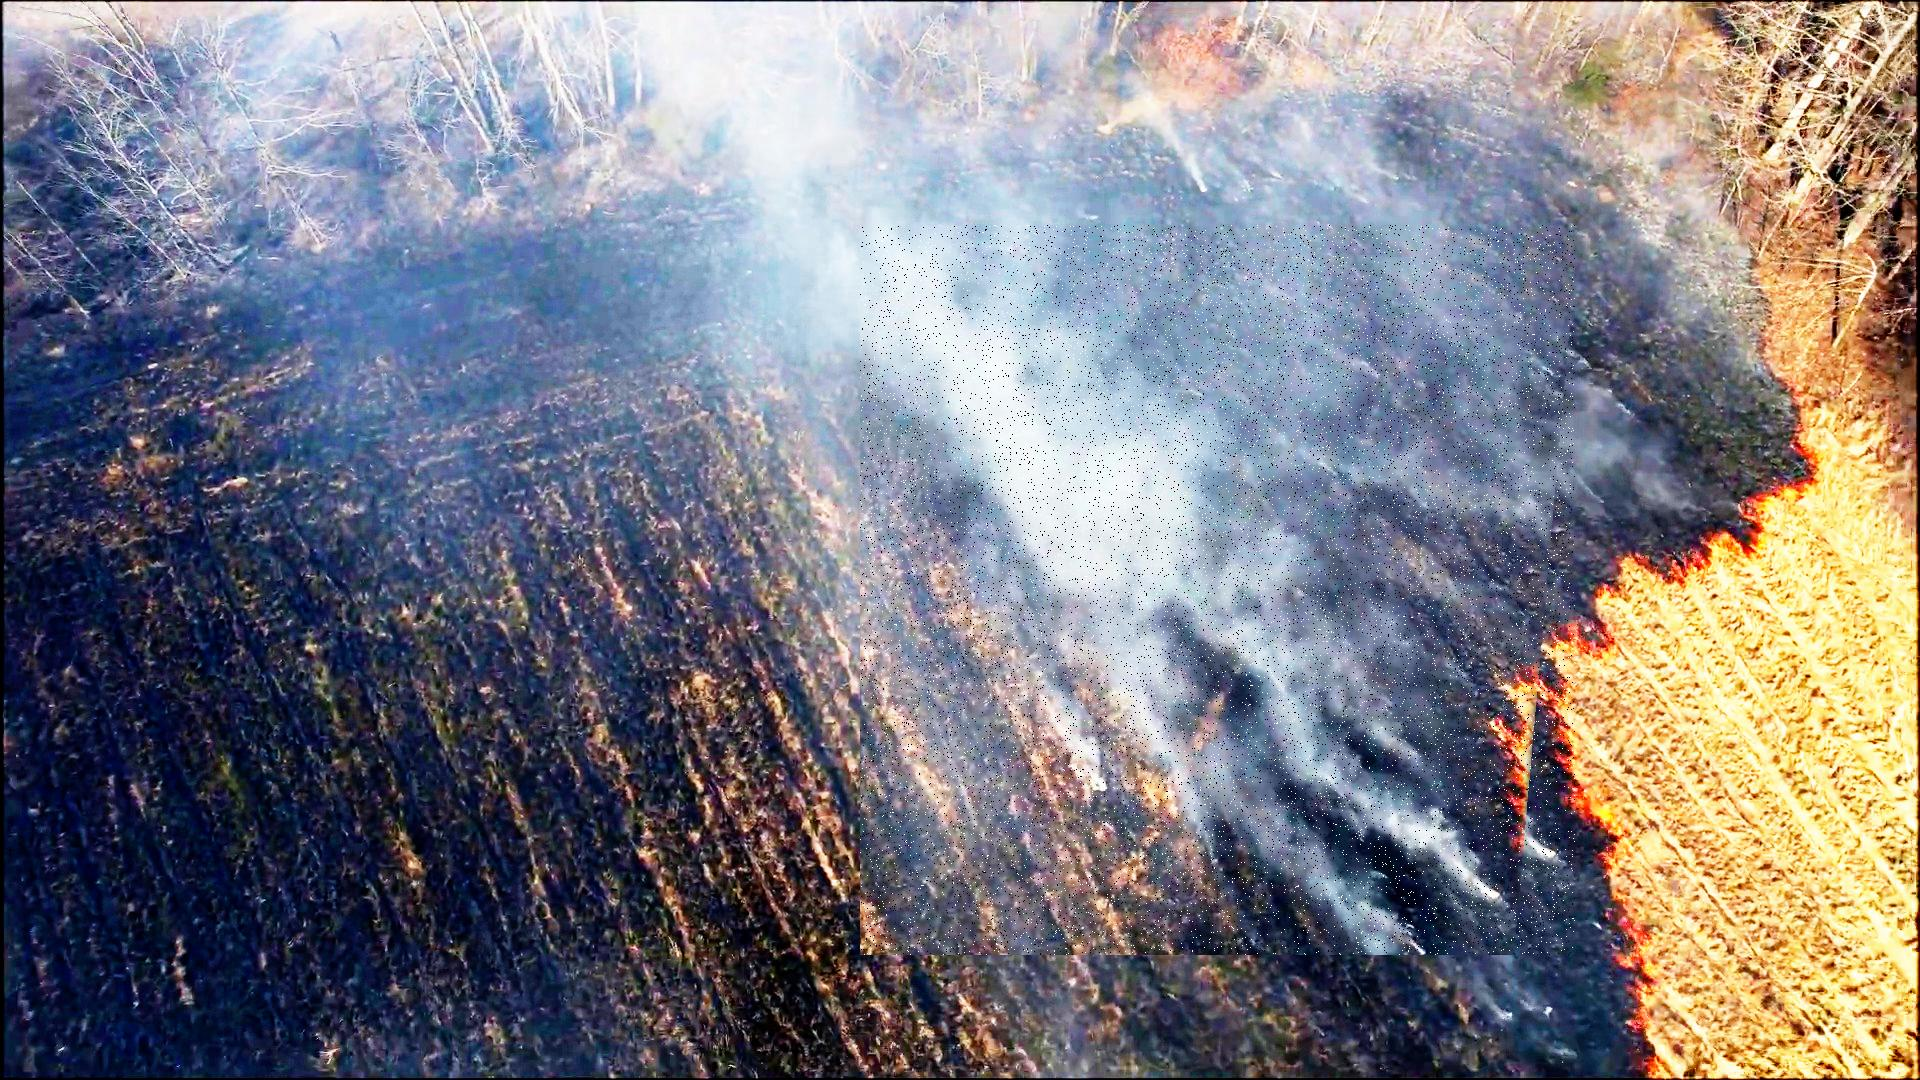smoke: (860, 225, 1575, 955)
